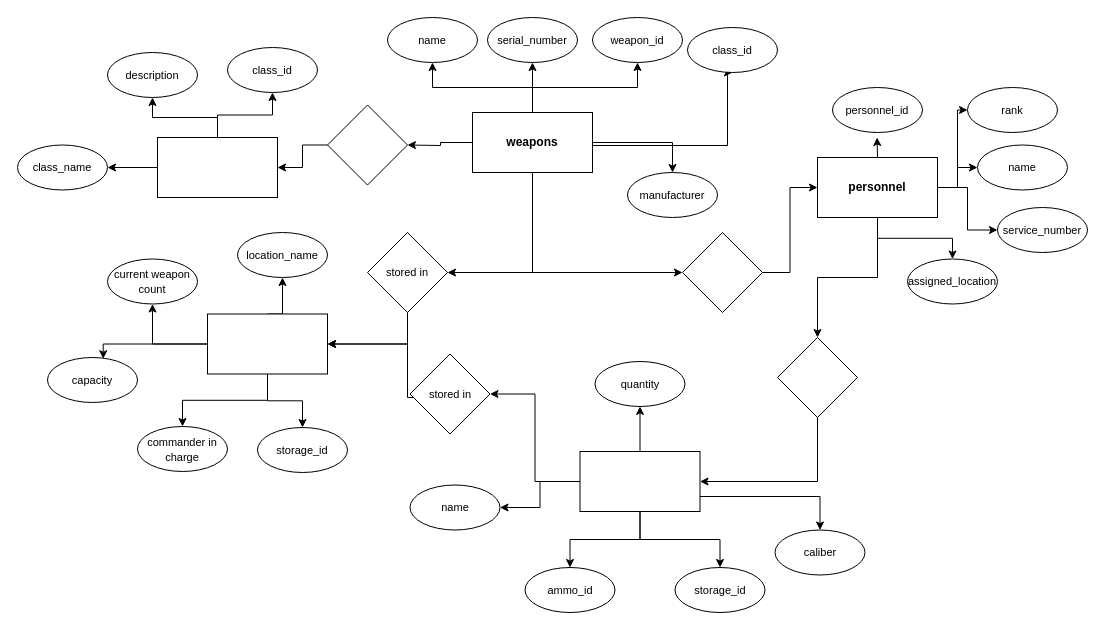
Image size: 1105x630. Some labels were removed from this diagram. Each missing label, with the box of its shape:
ammunition: (579, 450, 700, 512)
classifies: (326, 104, 408, 185)
Issued_To: (682, 232, 762, 312)
storage_locations: (206, 313, 328, 374)
uses: (776, 336, 858, 418)
weapon_classes: (156, 136, 278, 198)
